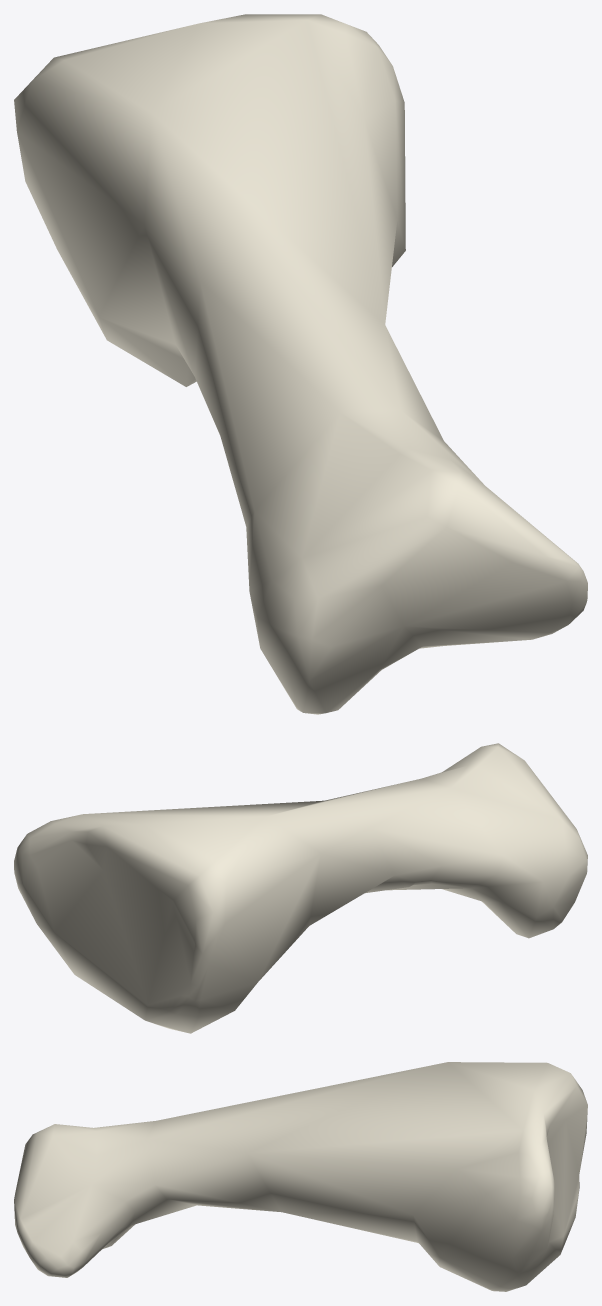
3 views of the same model, one above another, from view 1: azimuth 30°, elevation 25°; view 2: azimuth 150°, elevation 25°; view 3: azimuth 270°, elevation 25° (orthographic). The views are drawn at different scales.
Parts seen in each view (by area): view 1: ZA_caf3052e22833f69; view 2: ZA_caf3052e22833f69; view 3: ZA_caf3052e22833f69.
Part boxes in pixels (x1,y1,x2,y2): ZA_caf3052e22833f69: (14,14,587,714); ZA_caf3052e22833f69: (14,743,587,1033); ZA_caf3052e22833f69: (14,1062,587,1291).
Bounding box in the file's own units: 0.0179 × 0.013 × 0.0294.
